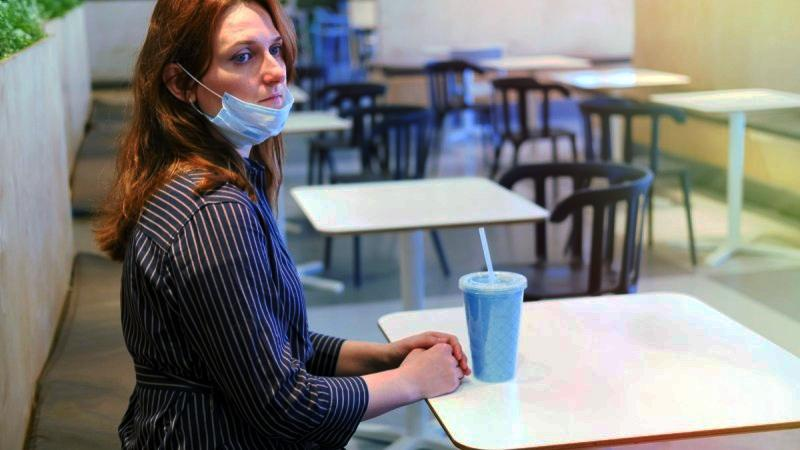mask_weared_incorrect: (140, 1, 293, 148)
